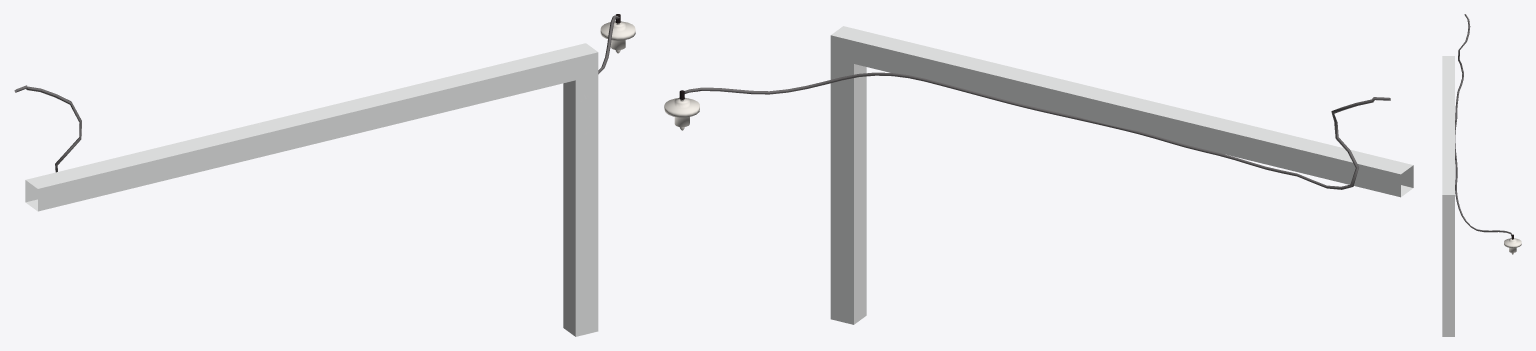
File: wirebraceSingle.fbx
3 views of the same model, side by side, from view 1: azimuth 30°, elevation 25°; view 2: azimuth 150°, elevation 25°; view 3: azimuth 270°, elevation 25° (orthographic). The views are drawn at different scales.
Parts seen in each view (by area): view 1: Wirebrace_single; view 2: Wirebrace_single; view 3: Wirebrace_single.
Part boxes in pixels (left/top/right/bottom): Wirebrace_single: left=14, top=14, right=635, bottom=336; Wirebrace_single: left=664, top=26, right=1413, bottom=324; Wirebrace_single: left=1442, top=14, right=1521, bottom=336.
Bounding box in the file's own units: 3.08 × 1.6 × 0.6279.
